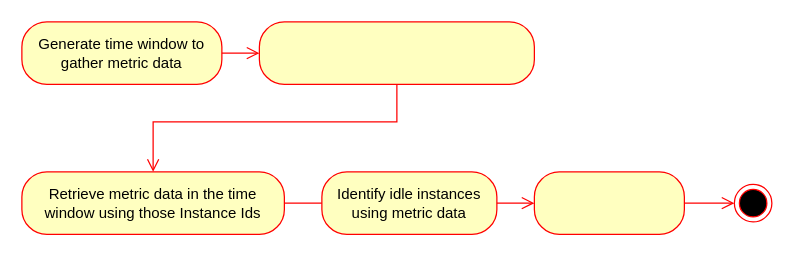
This 794x256 diagram has some shape labels left out. Here are the shapes that lost their labels. From the top down, the centre of each, then its label:
At point 396,52: "Extract instance Ids from the payload sent by EC2 Auto Scaling".
At point 608,202: "Return selected instance Ids".
